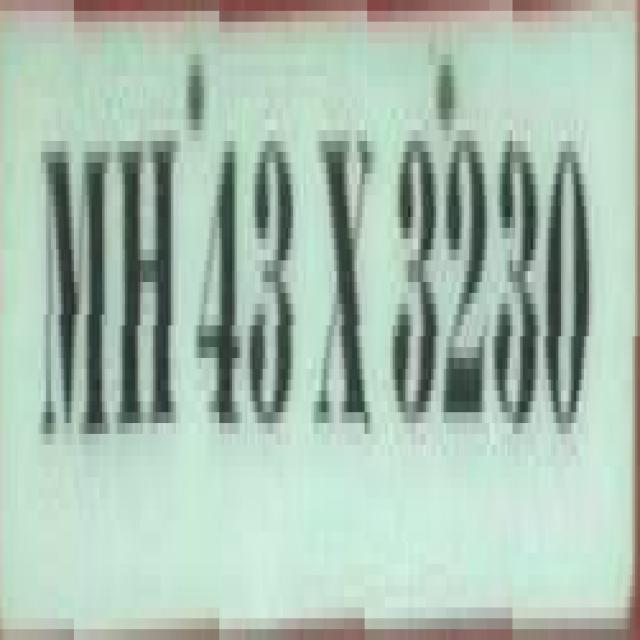license_plate: (20, 0, 639, 618)
